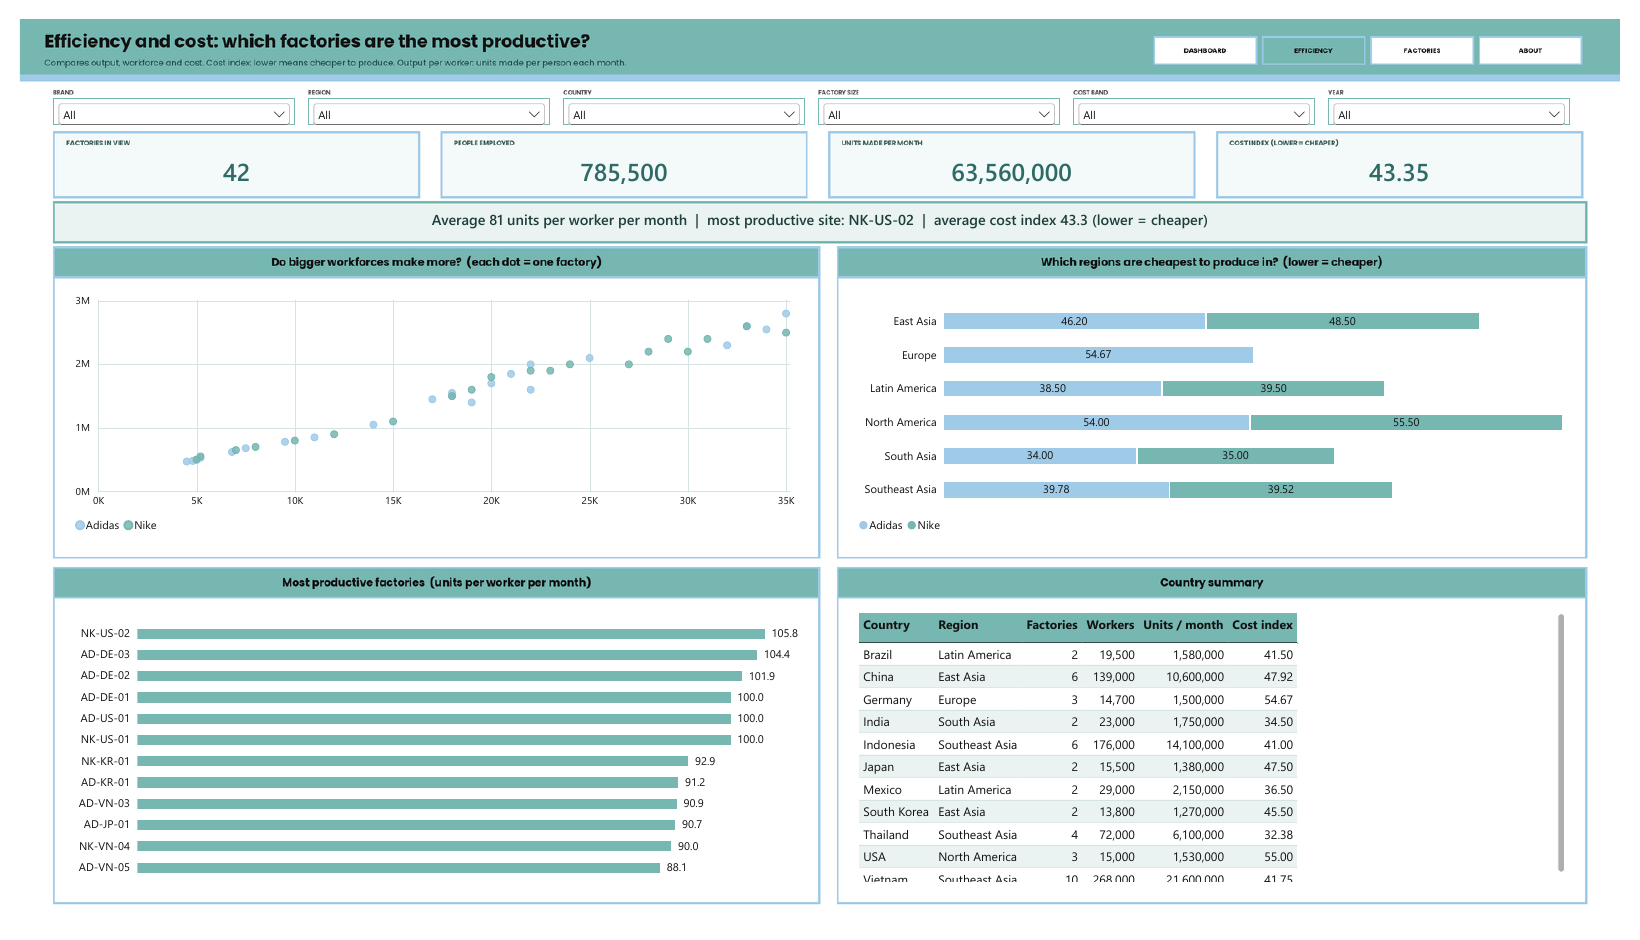

What the dashboard file says about the page in this screenshot:
{"tool":"powerbi","page":{"name":"Efficiency","canvas":[1920,1080],"ordinal":1},"visuals":[{"type":"card","fields":{"Values":["fact_factory_snapshot.Insight Efficiency"]},"box":[50,218,1820,50],"z":1310},{"type":"card","fields":{"Values":["fact_factory_snapshot.Factories"]},"box":[50,156,420,56],"z":1320},{"type":"card","fields":{"Values":["fact_factory_snapshot.Total Workers"]},"box":[515,156,420,56],"z":1330},{"type":"card","fields":{"Values":["fact_factory_snapshot.Monthly Output"]},"box":[980,156,420,56],"z":1340},{"type":"card","fields":{"Values":["fact_factory_snapshot.Avg Cost Index"]},"box":[1445,156,420,56],"z":1350},{"type":"scatterChart","fields":{"Category":["dim_factory.factory_code"],"X":["fact_factory_snapshot.Total Workers"],"Y":["fact_factory_snapshot.Monthly Output"],"Series":["dim_brand.brand_name"]},"box":[50,314,900,322],"z":1360},{"type":"barChart","fields":{"Category":["dim_country.region"],"Series":["dim_brand.brand_name"],"Y":["fact_factory_snapshot.Avg Cost Index"]},"box":[990,314,880,322],"z":1370},{"type":"barChart","fields":{"Category":["dim_factory.factory_code"],"Y":["fact_factory_snapshot.Output per Worker"]},"box":[50,698,900,352],"z":1380},{"type":"tableEx","fields":{"Values":["dim_country.country_name","dim_country.region","fact_factory_snapshot.Factories","fact_factory_snapshot.Total Workers","fact_factory_snapshot.Monthly Output","fact_factory_snapshot.Avg Cost Index"]},"box":[990,698,880,352],"z":1390},{"type":"slicer","fields":{"Values":["dim_brand.brand_name"]},"box":[40,94,290,32],"z":7024},{"type":"slicer","fields":{"Values":["dim_country.region"]},"box":[346,94,290,32],"z":7025},{"type":"slicer","fields":{"Values":["dim_country.country_name"]},"box":[652,94,290,32],"z":7026},{"type":"slicer","fields":{"Values":["fact_factory_snapshot.size_tier"]},"box":[958,94,290,32],"z":7027},{"type":"slicer","fields":{"Values":["fact_factory_snapshot.cost_band"]},"box":[1264,94,290,32],"z":7028},{"type":"slicer","fields":{"Values":["fact_factory_snapshot.year_key"]},"box":[1570,94,290,32],"z":7029},{"type":"actionButton","box":[1360,20,124,34],"z":9039},{"type":"actionButton","box":[1490,20,124,34],"z":9040},{"type":"actionButton","box":[1620,20,124,34],"z":9041},{"type":"actionButton","box":[1750,20,124,34],"z":9042}]}

Visuals, with their boxes in screenshot pixels (x1, y1, x2, y2), scaled from the page's 1920x1080 canvas onto the 1640x940 screenshot:
card - fact_factory_snapshot.Insight Efficiency: rect(43, 190, 1597, 233)
card - fact_factory_snapshot.Factories: rect(43, 136, 401, 185)
card - fact_factory_snapshot.Total Workers: rect(440, 136, 799, 185)
card - fact_factory_snapshot.Monthly Output: rect(837, 136, 1196, 185)
card - fact_factory_snapshot.Avg Cost Index: rect(1234, 136, 1593, 185)
scatterChart - dim_factory.factory_code x fact_factory_snapshot.Total Workers: rect(43, 273, 811, 554)
barChart - dim_country.region x dim_brand.brand_name: rect(846, 273, 1597, 554)
barChart - dim_factory.factory_code x fact_factory_snapshot.Output per Worker: rect(43, 608, 811, 914)
tableEx - dim_country.country_name x dim_country.region: rect(846, 608, 1597, 914)
slicer - dim_brand.brand_name: rect(34, 82, 282, 110)
slicer - dim_country.region: rect(296, 82, 543, 110)
slicer - dim_country.country_name: rect(557, 82, 805, 110)
slicer - fact_factory_snapshot.size_tier: rect(818, 82, 1066, 110)
slicer - fact_factory_snapshot.cost_band: rect(1080, 82, 1327, 110)
slicer - fact_factory_snapshot.year_key: rect(1341, 82, 1589, 110)
actionButton: rect(1162, 17, 1268, 47)
actionButton: rect(1273, 17, 1379, 47)
actionButton: rect(1384, 17, 1490, 47)
actionButton: rect(1495, 17, 1601, 47)
